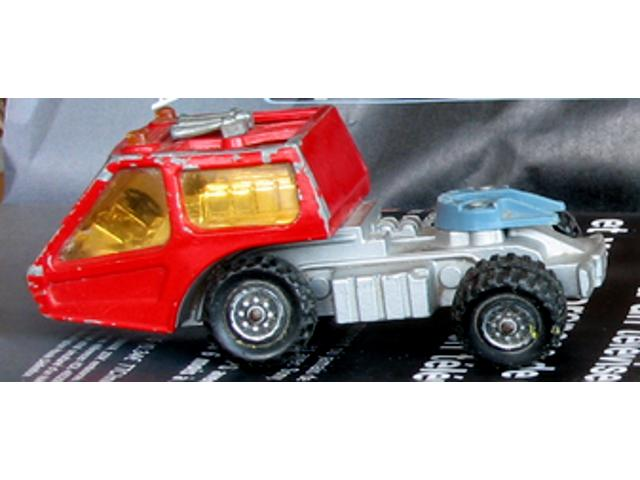toy-car: (26, 105, 609, 372)
